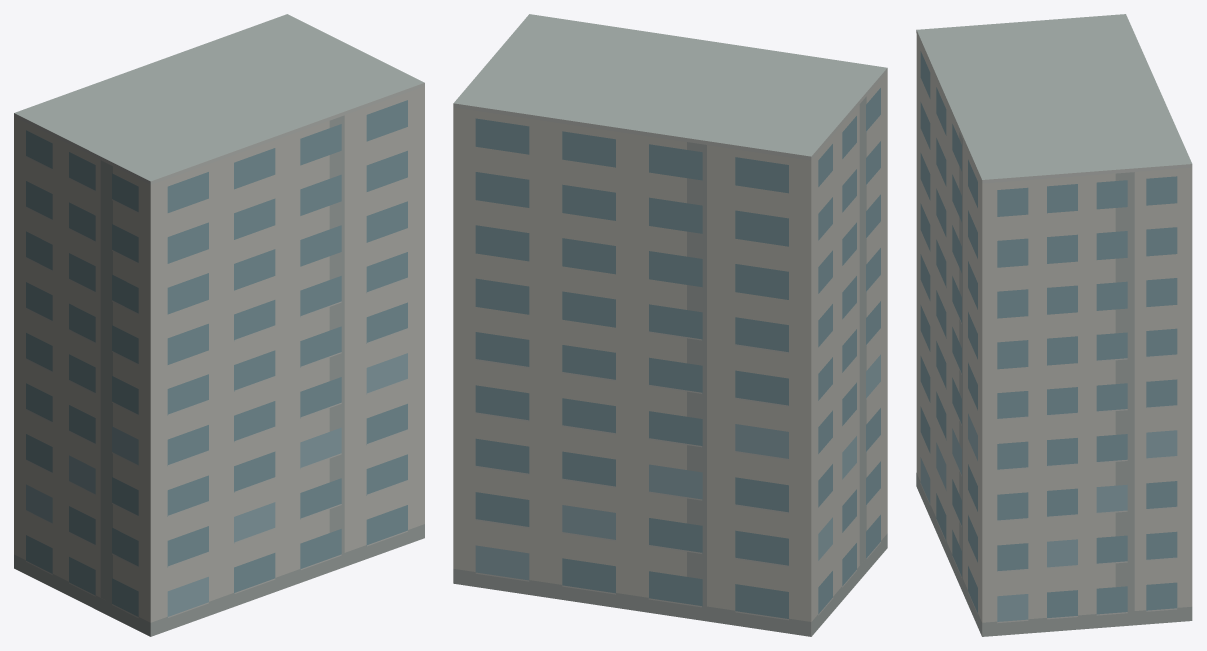
The model's file is survey-upis-32827230.glb.
3 views of the same model, side by side, from view 1: azimuth 30°, elevation 25°; view 2: azimuth 150°, elevation 25°; view 3: azimuth 270°, elevation 25° (orthographic). The views are drawn at different scales.
Parts seen in each view (by area): view 1: survey-upis-32827230.tmp; view 2: survey-upis-32827230.tmp; view 3: survey-upis-32827230.tmp.
Boxes of the visible parts, <box> form: survey-upis-32827230.tmp: <box>14,14,424,636</box>; survey-upis-32827230.tmp: <box>453,14,887,636</box>; survey-upis-32827230.tmp: <box>916,14,1192,636</box>.
Bounding box in the file's own units: 23.37 × 29.98 × 16.41.
